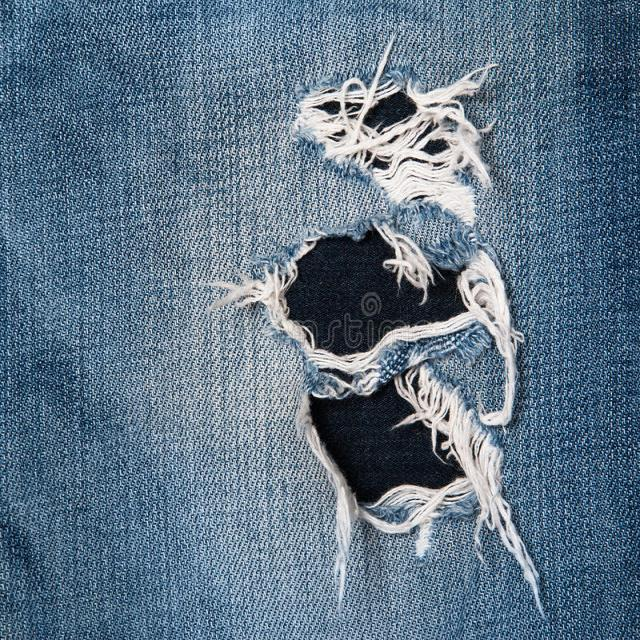Hole: (231, 207, 543, 610), (295, 49, 495, 225)
